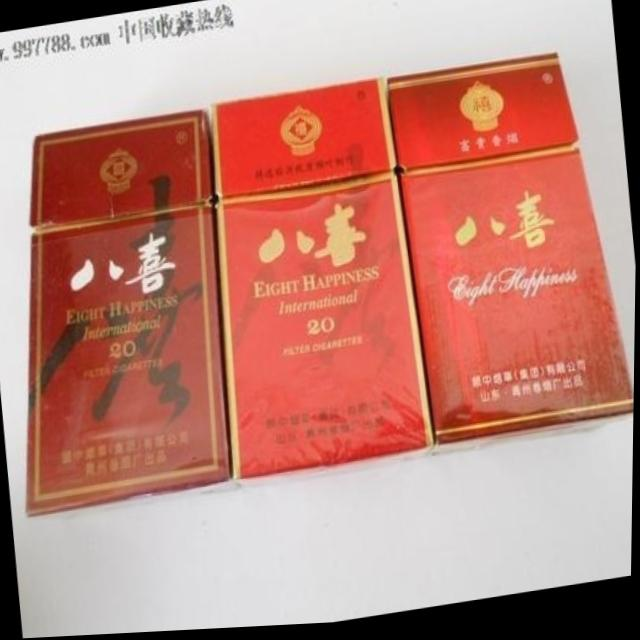box: (388, 58, 635, 456), (211, 80, 434, 481), (26, 110, 231, 516)
